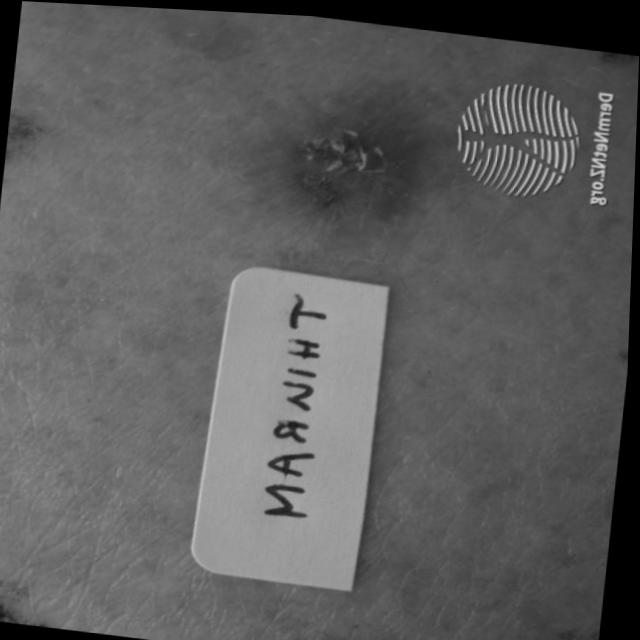Eczema: (280, 125, 405, 218)
